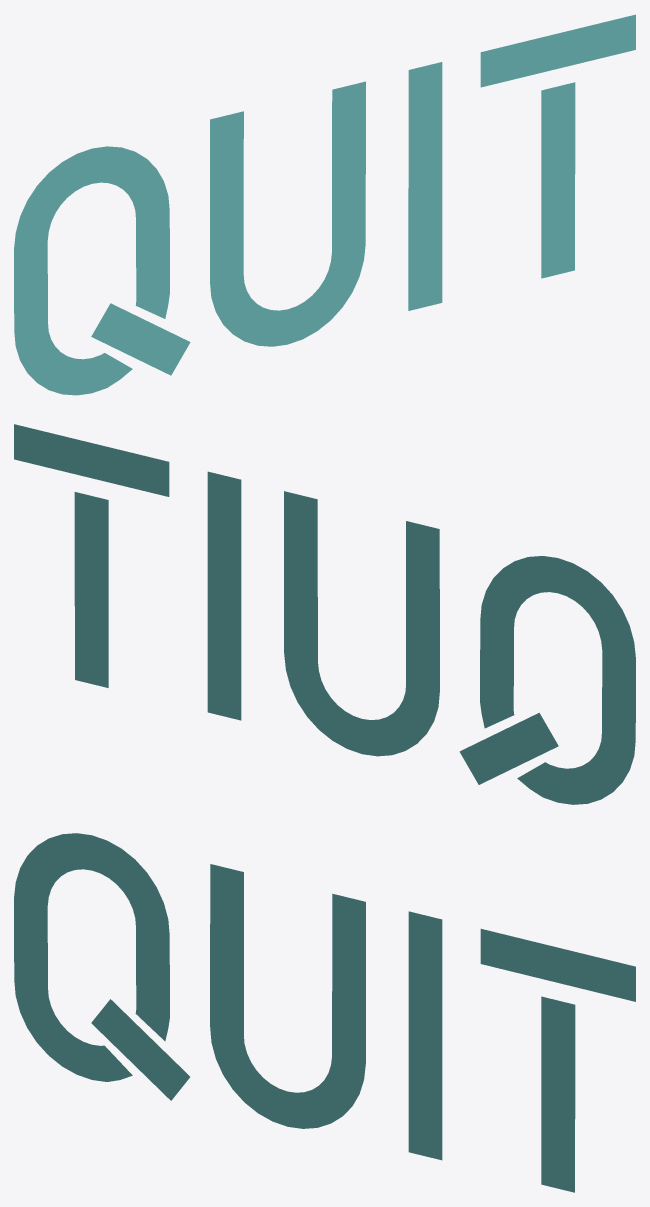
File: QUIT.fbx
3 views of the same model, one above another, from view 1: azimuth 30°, elevation 25°; view 2: azimuth 150°, elevation 25°; view 3: azimuth 330°, elevation 25° (orthographic).
Parts seen in each view (by area): view 1: Plane.003; view 2: Plane.003; view 3: Plane.003.
Part boxes in pixels (box(x1,y1,x2,y2)): Plane.003: box(14, 14, 635, 395); Plane.003: box(14, 424, 635, 804); Plane.003: box(14, 833, 635, 1192).
Size of the model in its own units: 3177 by 1210 by 0.8484.
